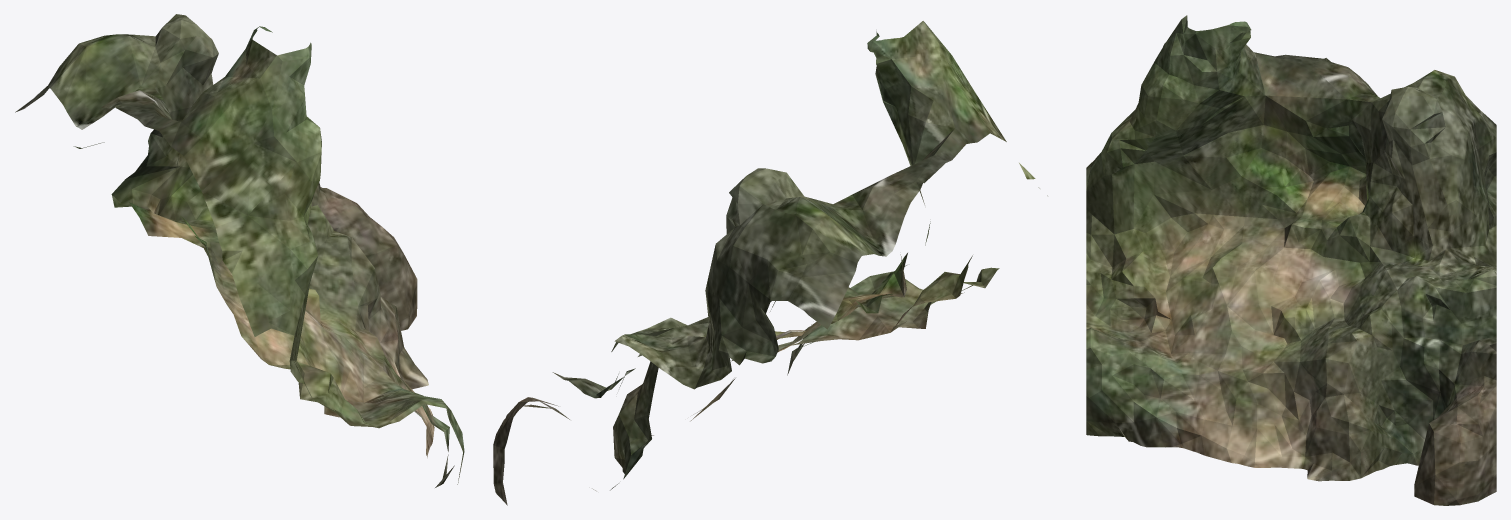
The picture shows the model from 3 angles, left to right: view 1: azimuth 30°, elevation 25°; view 2: azimuth 150°, elevation 25°; view 3: azimuth 270°, elevation 25°; orthographic projection. The views are drawn at different scales.
Bounding box in the file's own units: 2.62 × 2.95 × 2.95.
4 materials, 4 textured.
